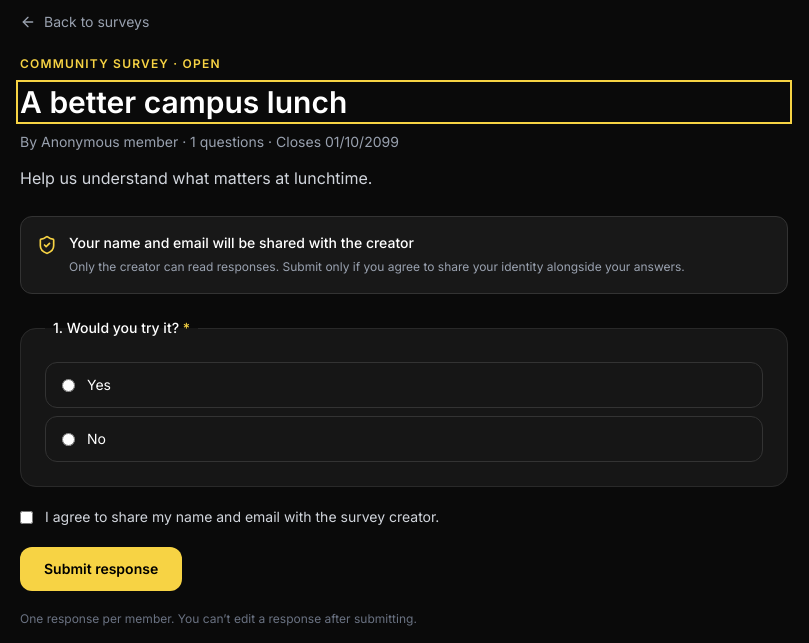
named responses disclose identity sharing and submit explicit consent
The width and height of the screenshot is (809, 643).
Expected: the text "Your name and email will be shared with the creator" is shown, [69, 234, 414, 251]
Click the radio button labelled "Yes" at (68, 385), box [62, 378, 75, 392]
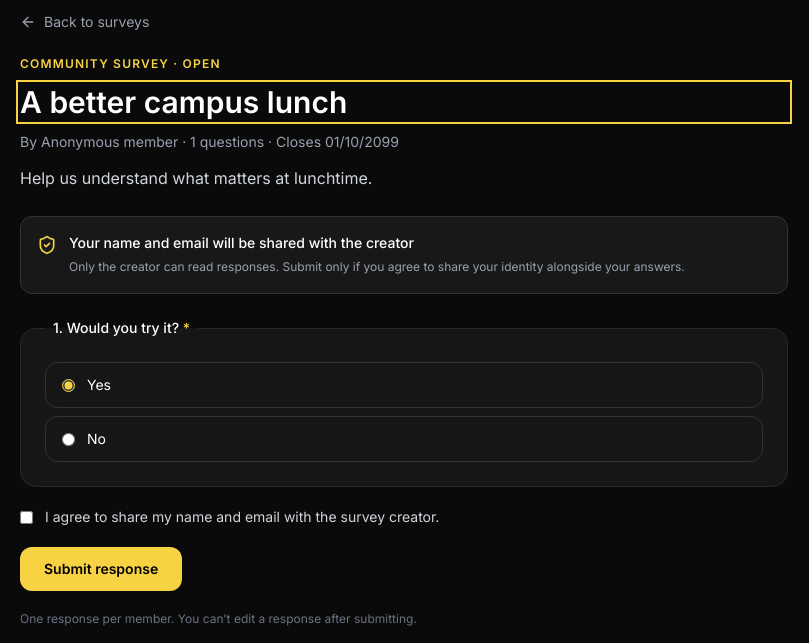
Click the checkbox labelled "I agree to share my name and email with the survey creator." at (26, 518), box [20, 511, 33, 524]
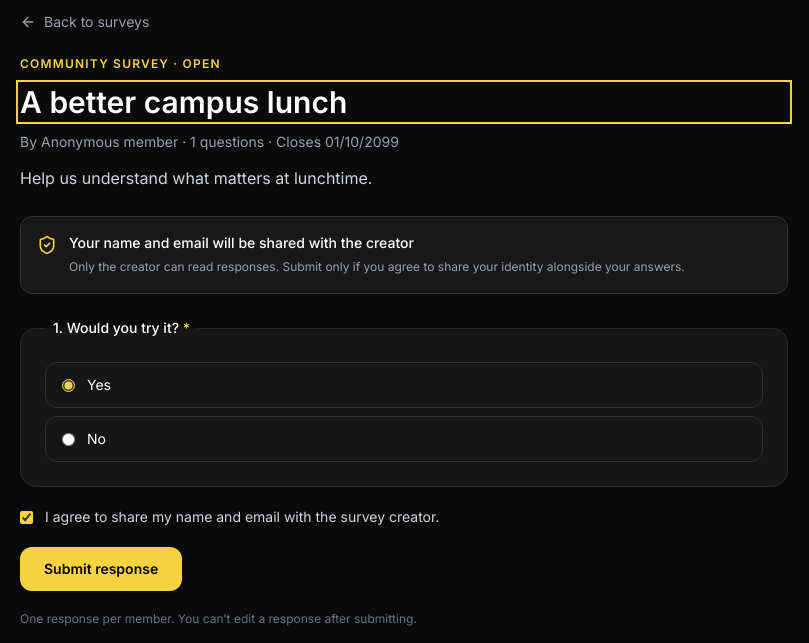
Click the button "Submit response" at (101, 569), box [20, 547, 182, 591]
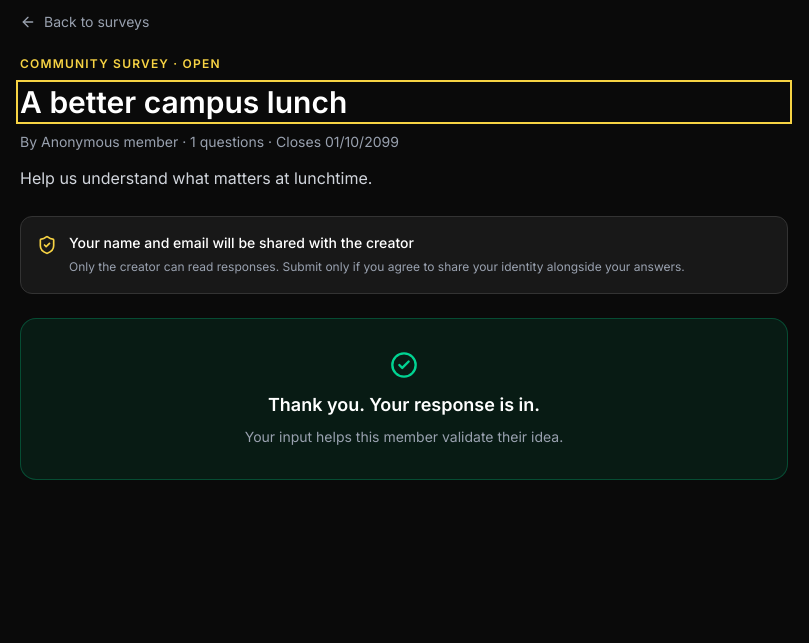
Expected: the heading "Thank you. Your response is in." is shown, [268, 394, 540, 415]
Expected: the button "Submit response" is gone
